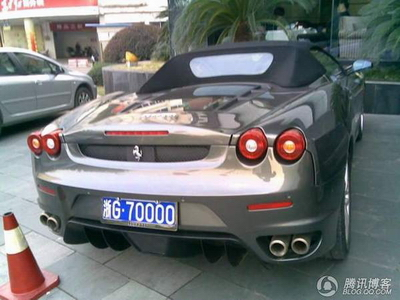plate_number: (101, 195, 181, 227)
